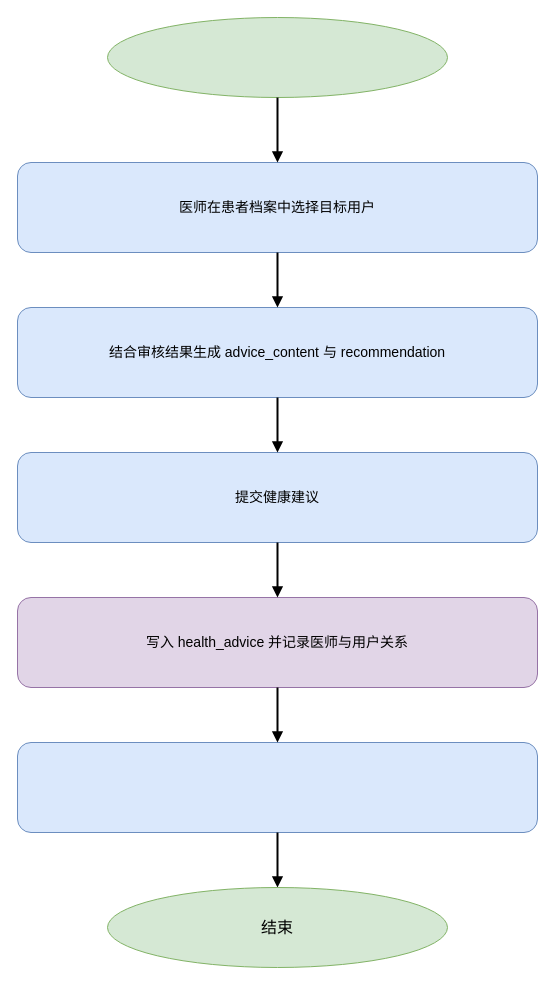
Some shapes in this 555 by 985 pixel diagram are drawn without their labels. Here are the shapes that lost their labels. From the top down, the centre of each, then its label:
At [277,57]: "开始".
At [277,787]: "用户端展示最新健康建议".
